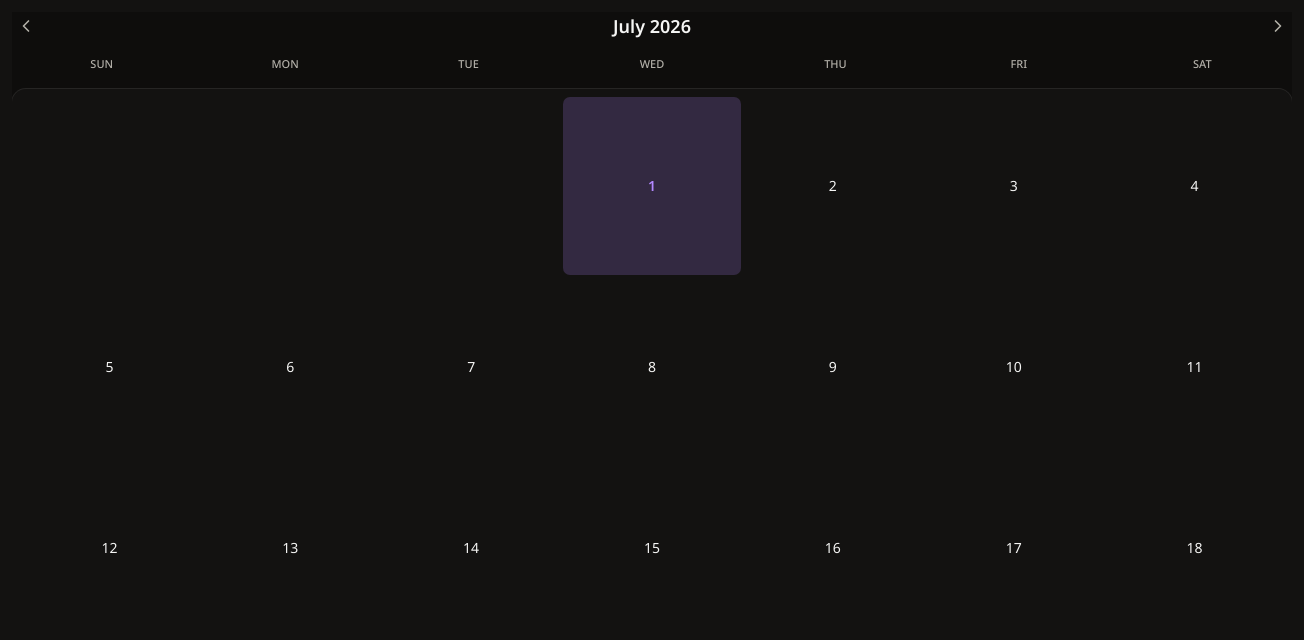
Scenario: NyuchiCalendar › navigates months
This screenshot has width=1304, height=640.
Click the button named "Next month".
click(1278, 26)  # box [1264,12,1292,40]
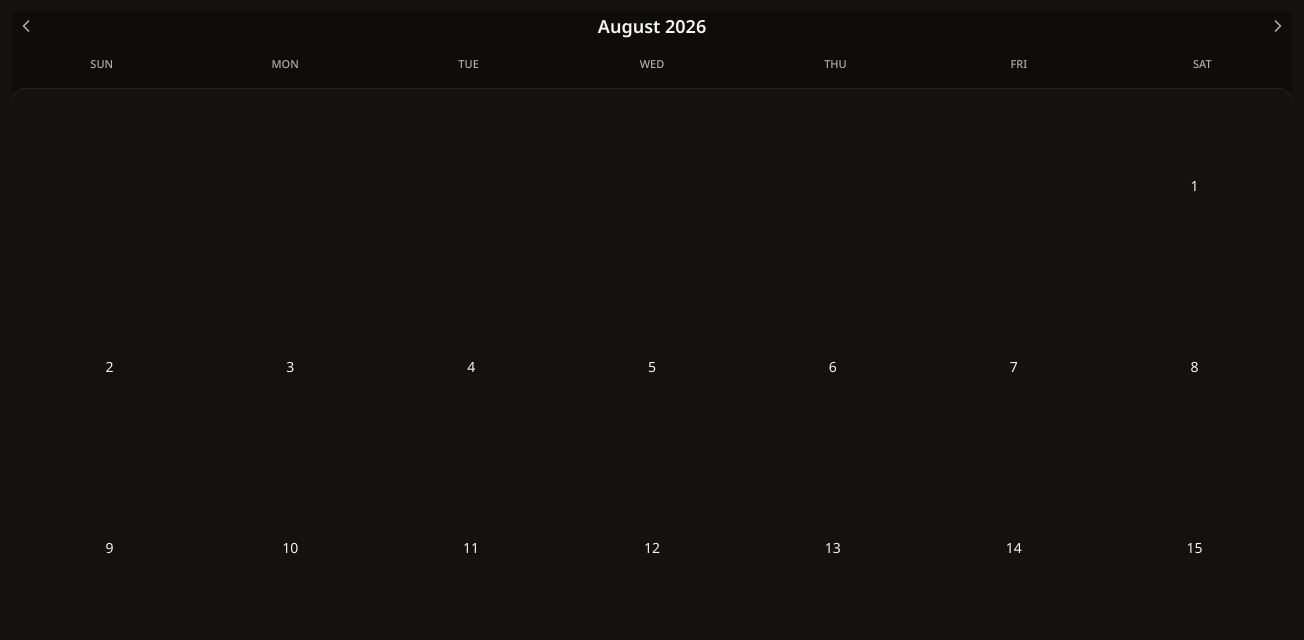
Now the text "August 2026" is shown, box [598,12,706,40]
Click the button named "Previous month".
click(26, 26)  # box [12,12,40,40]
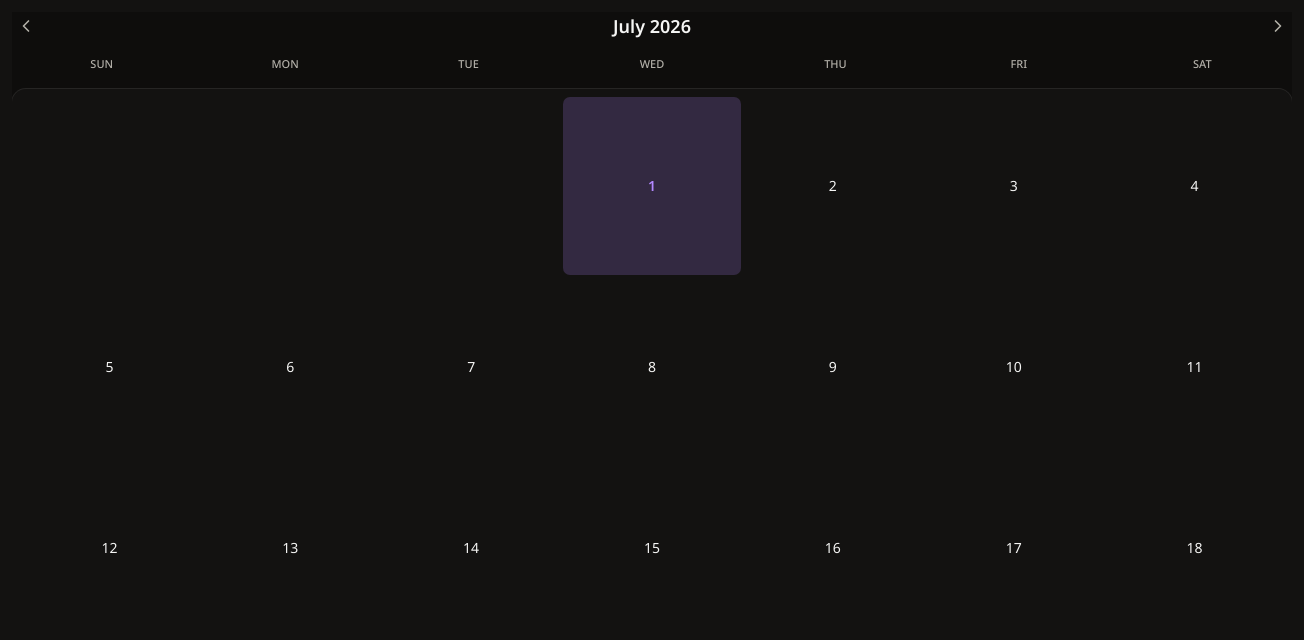
Click the button named "Previous month".
click(26, 26)  # box [12,12,40,40]
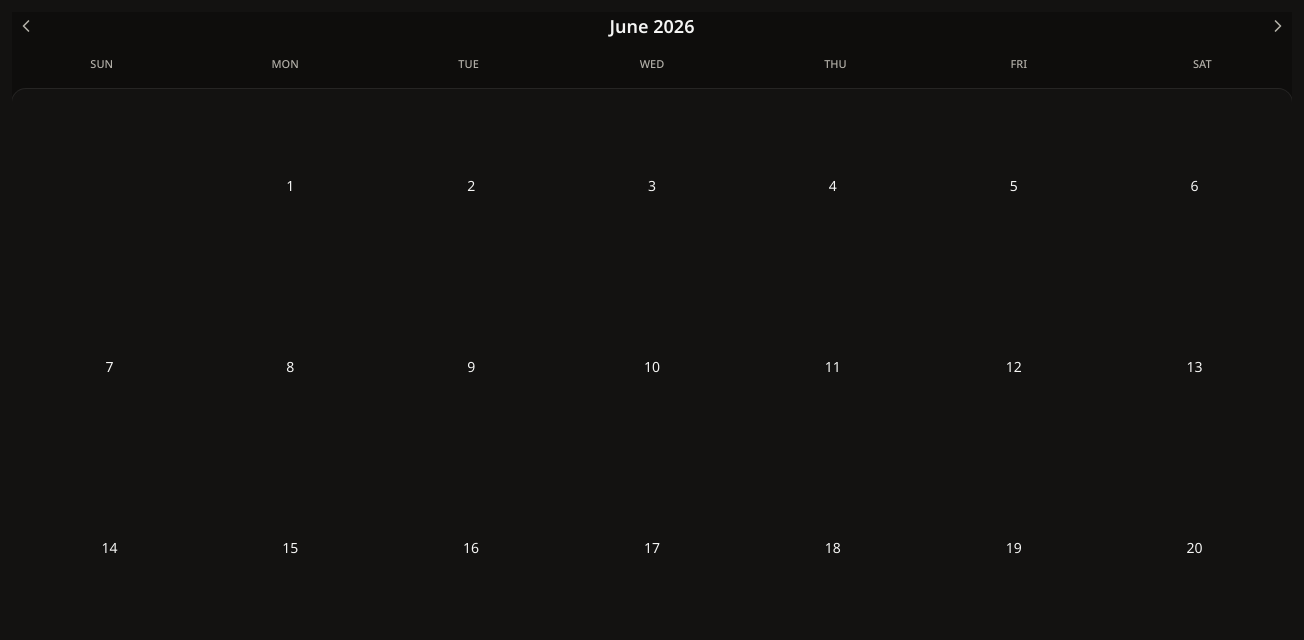
Now the text "June 2026" is shown, box [610,12,694,40]
